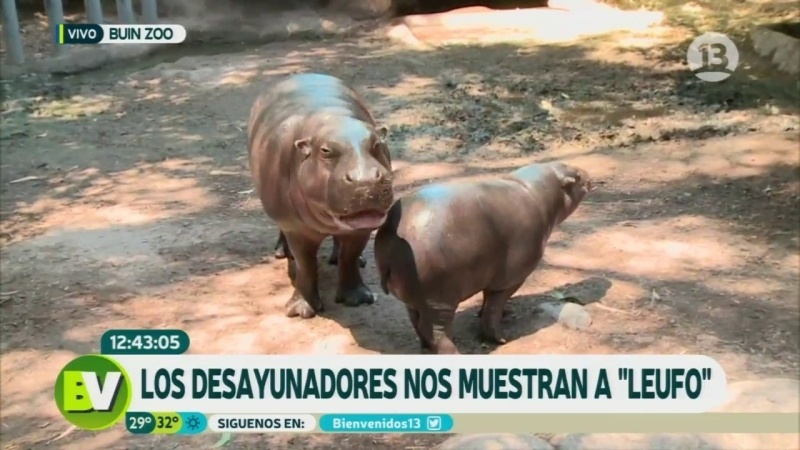hipopotamo: (371, 147, 610, 358), (232, 50, 397, 327)
